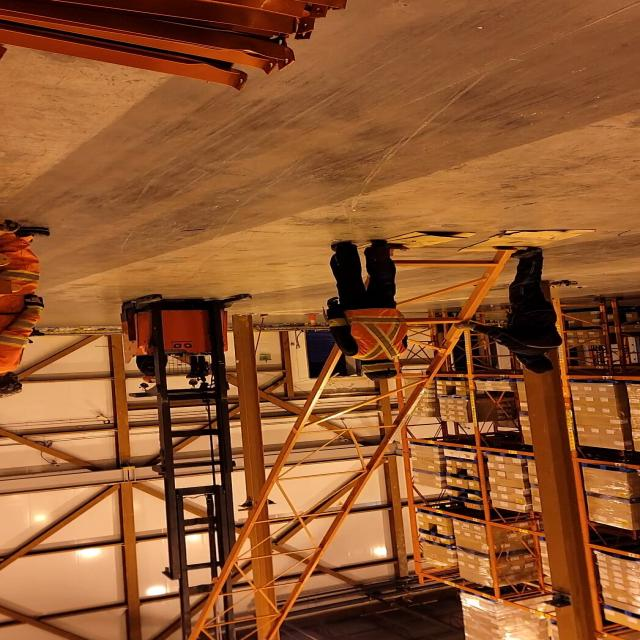forklift: (113, 291, 255, 476)
human: (448, 243, 567, 375), (321, 236, 411, 382), (0, 222, 55, 402), (122, 353, 188, 386)
objectofinterest: (177, 244, 526, 640), (456, 228, 602, 256), (351, 231, 483, 254)
